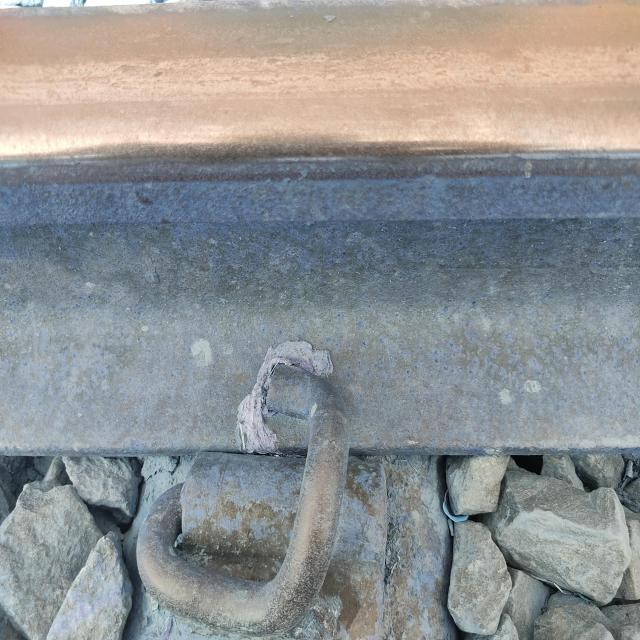Good Fasteners: (136, 343, 411, 640)
